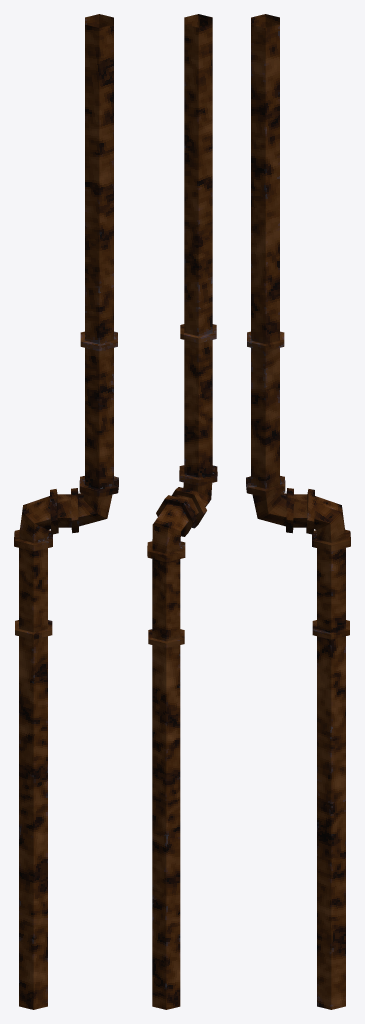
Rendered from Pipe01.glb.
The picture shows the model from 3 angles, left to right: view 1: azimuth 90°, elevation 25°; view 2: azimuth 150°, elevation 25°; view 3: azimuth 270°, elevation 25°; orthographic projection. The views are drawn at different scales.
Visible parts, largest first — view 1: Pipe01; view 2: Pipe01; view 3: Pipe01.
Part boxes in pixels (x1,y1,x2,y2): Pipe01: (14,14,118,1009); Pipe01: (147,14,217,1009); Pipe01: (246,14,350,1009).
Size of the model in its own units: 0.8882 by 21.49 by 2.08.
1 material, 1 textured.
